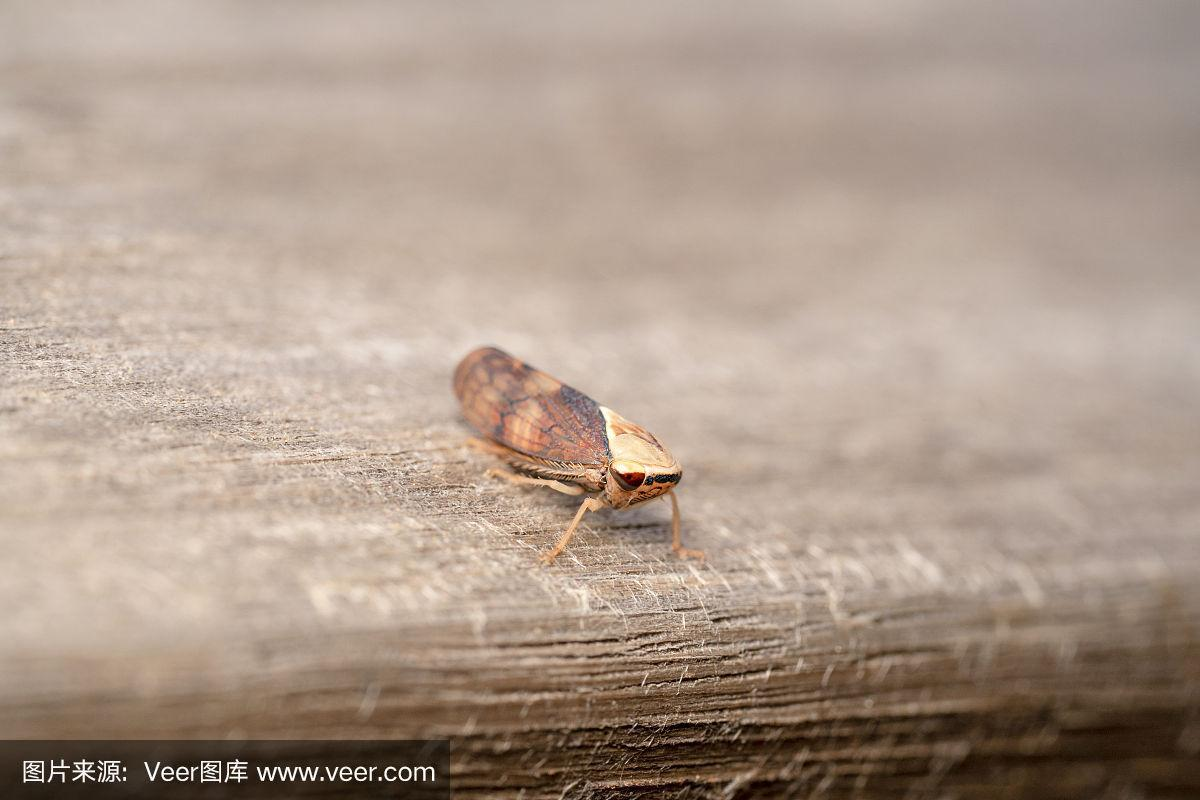Cicadellidae: (450, 346, 700, 562)
